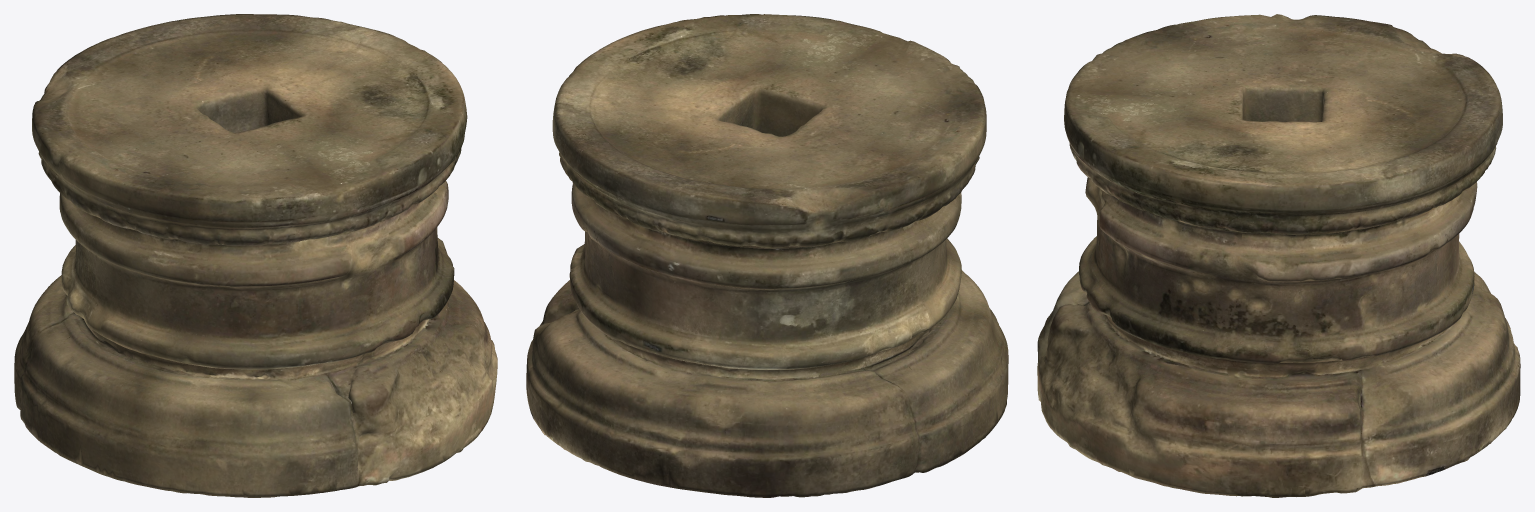
File: 03_MysonSanctuaryD2_Thanhphandaitho_final.glb
3 renders of one model, left to right at view 1: azimuth 30°, elevation 25°; view 2: azimuth 150°, elevation 25°; view 3: azimuth 270°, elevation 25°, orthographic.
Bounding box in the file's own units: 0.9701 × 0.6711 × 0.9724.
Materials: 1 (1 with a texture image).
